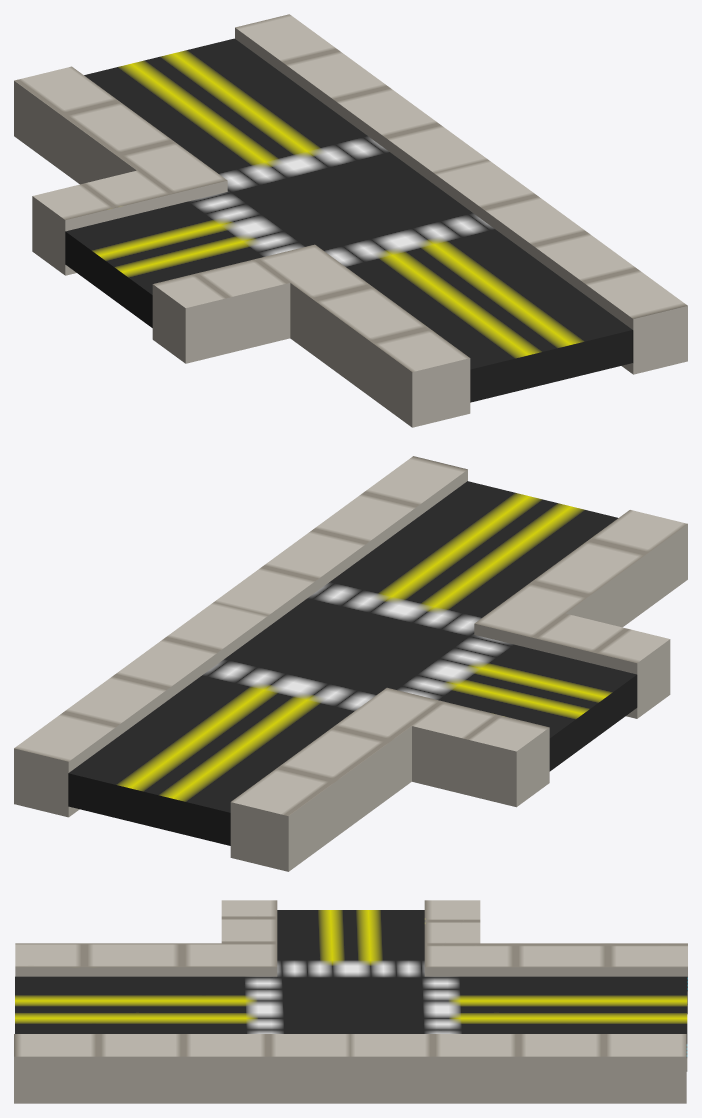
Rendered from Street1.fbx.
The picture shows the model from 3 angles, top to bottom: view 1: azimuth 30°, elevation 25°; view 2: azimuth 150°, elevation 25°; view 3: azimuth 270°, elevation 25°; orthographic projection. The views are drawn at different scales.
Parts seen in each view (by area): view 1: Cube.002; view 2: Cube.002; view 3: Cube.002.
Boxes of the visible parts, bbox=[...] form: Cube.002: bbox=[14, 14, 687, 427]; Cube.002: bbox=[14, 456, 687, 871]; Cube.002: bbox=[14, 900, 687, 1103].
Bounding box in the file's own units: 972 × 136 × 1772.
